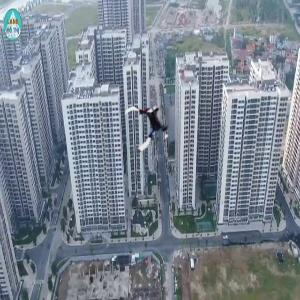drone: (121, 99, 173, 151)
